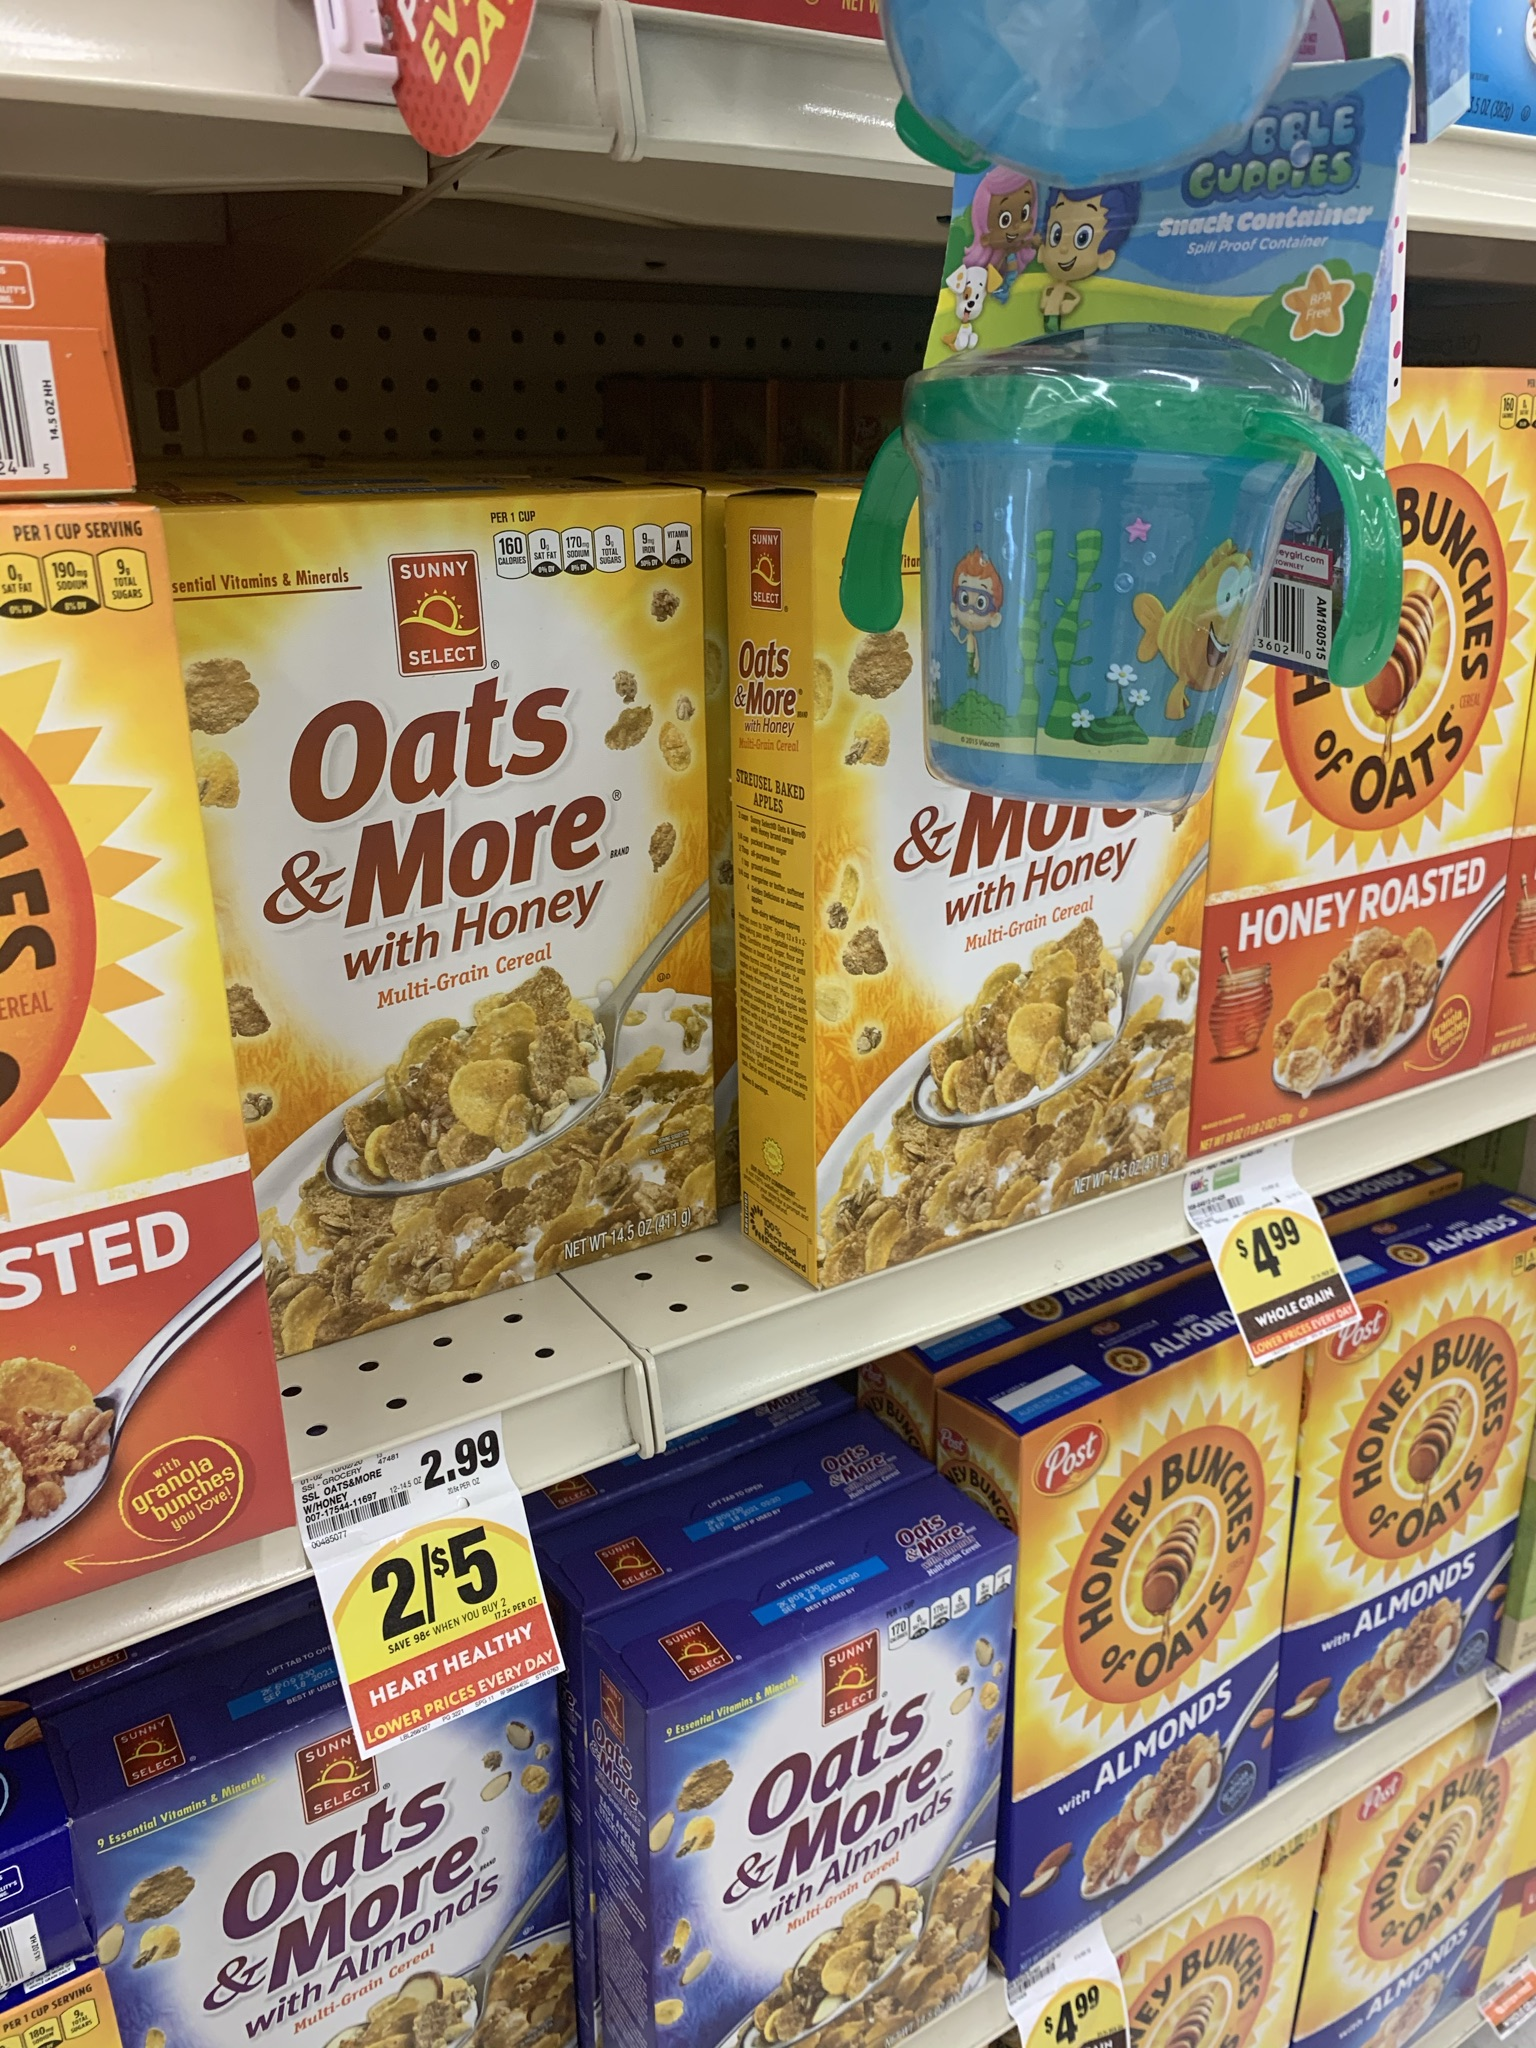box: (253, 506, 687, 1222), (691, 1661, 983, 1998), (1065, 1417, 1283, 1804), (1363, 1300, 1510, 1672)
